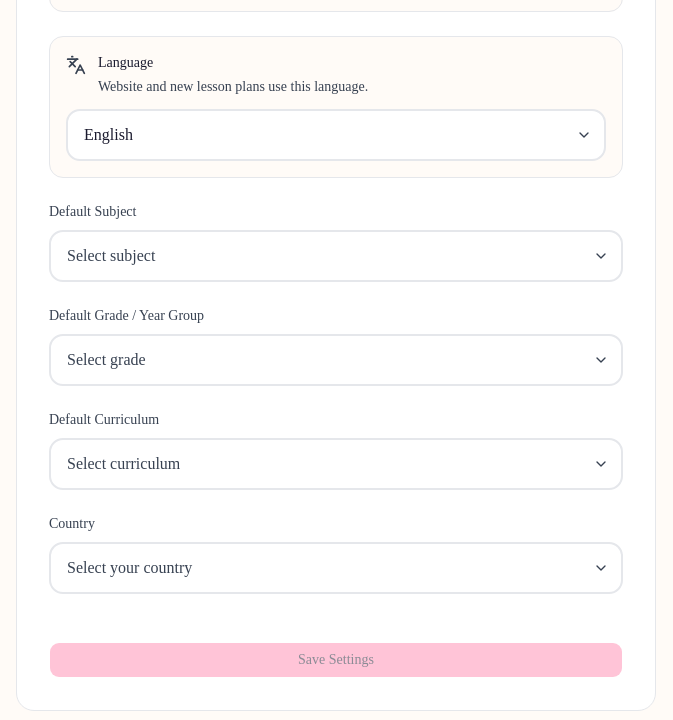
Test: SettingsClient — dirty save › closes Grade on Tab and moves focus to Curriculum
(page scrolled)
Click the button named "default grade": (106, 360) [49,334,623,386]
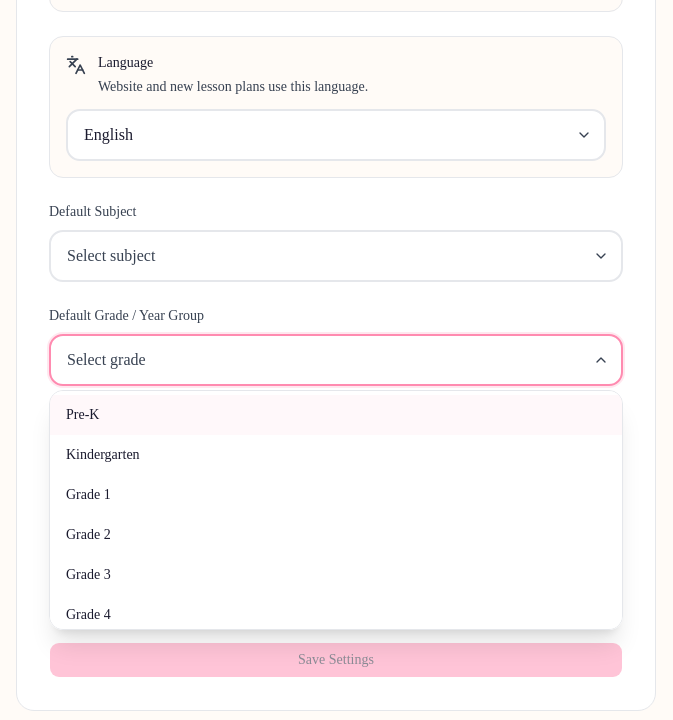
Expected: the list is shown, [49,390,623,630]
Press Tab
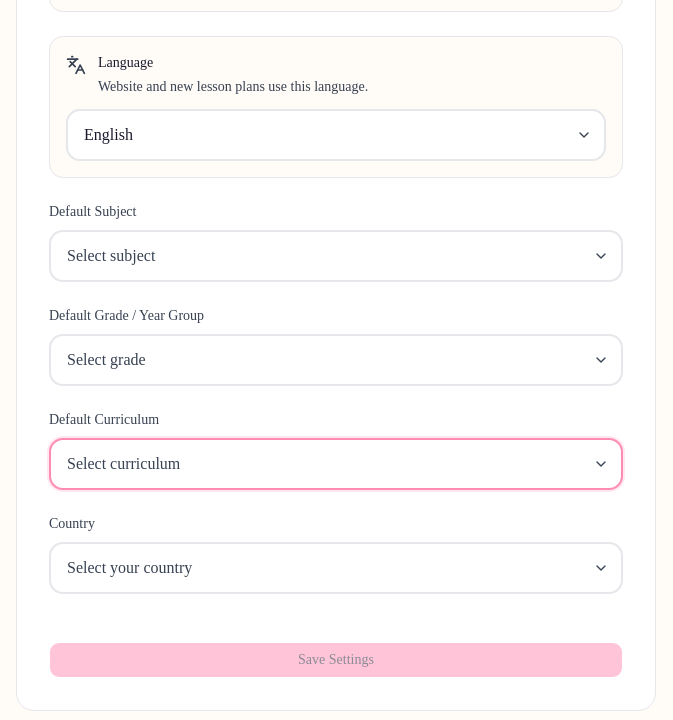
Expected: the list is gone
